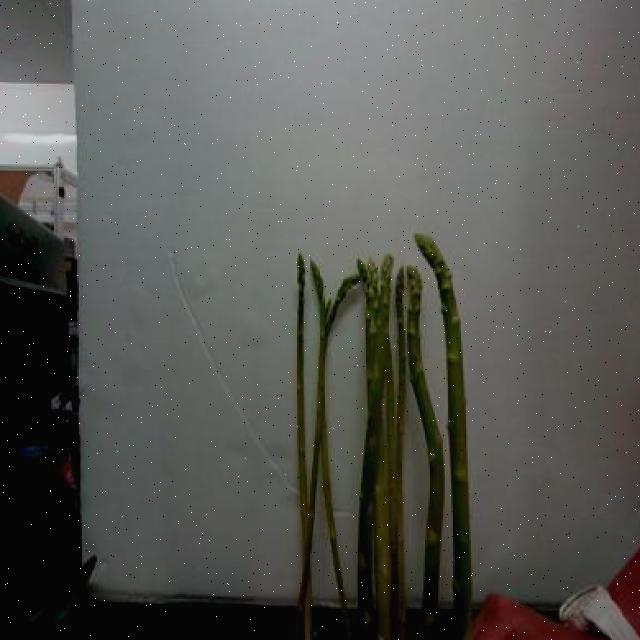aspargus: (291, 276, 366, 640), (416, 233, 472, 639), (406, 265, 444, 640)
